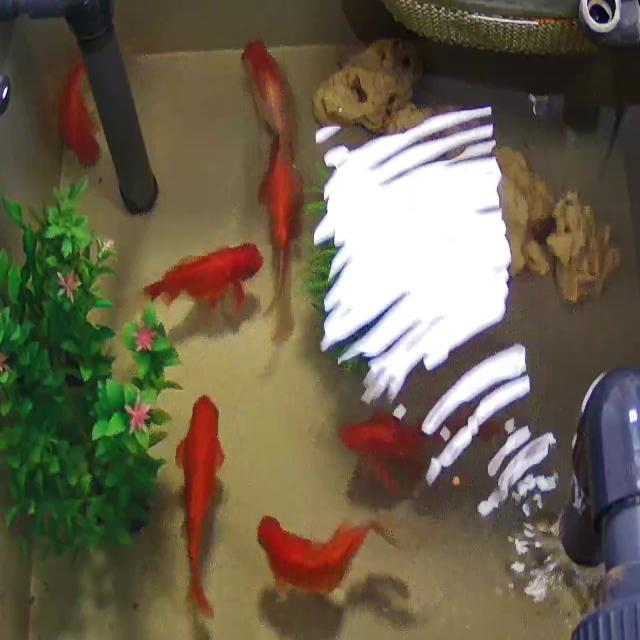fish: (249, 497, 380, 620), (162, 387, 226, 624), (258, 153, 319, 347), (114, 240, 278, 312), (234, 26, 307, 158), (341, 417, 444, 482), (49, 45, 102, 164)
